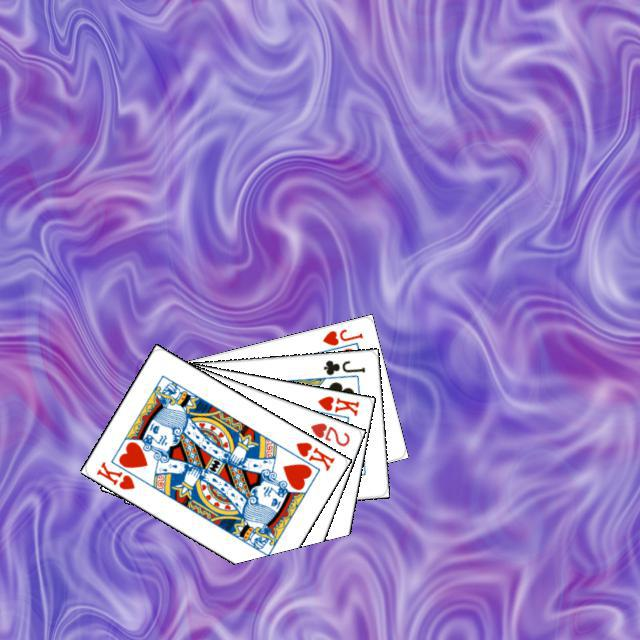2h: (306, 418, 352, 448)
Jc: (318, 355, 367, 377)
Jh: (317, 324, 365, 347)
Kh: (282, 437, 336, 474), (307, 391, 361, 422), (91, 456, 137, 491)
